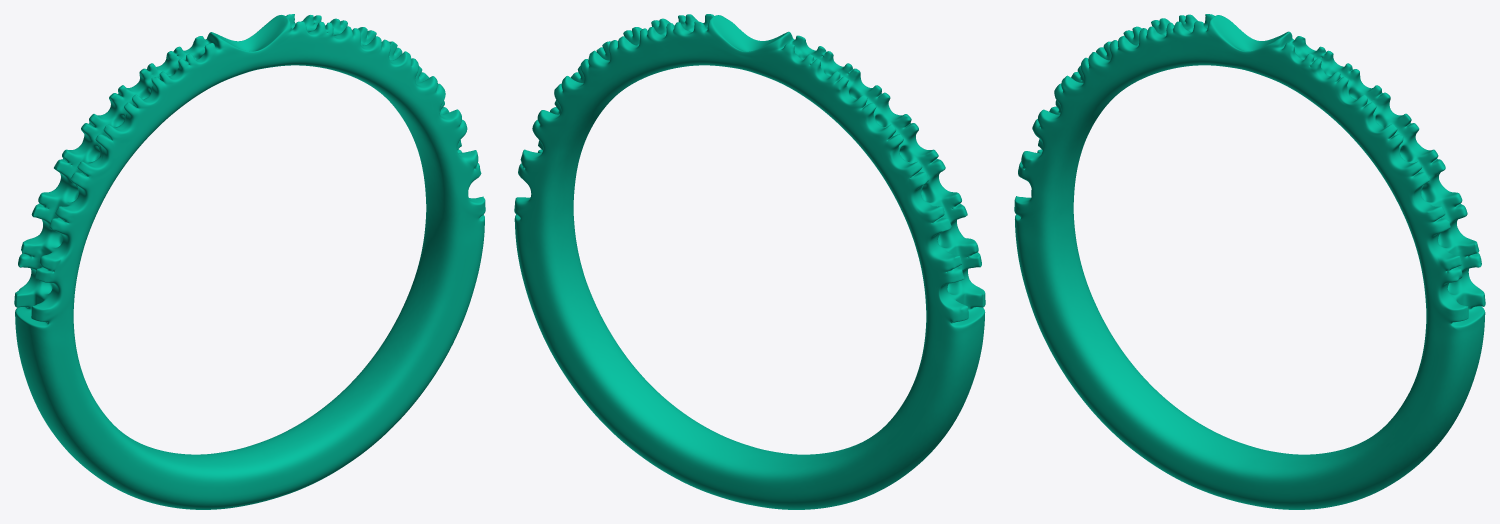
File: Shank_Pinch_U Prong_B_Single Halo_Band.glb
3 views of the same model, side by side, from view 1: azimuth 30°, elevation 25°; view 2: azimuth 150°, elevation 25°; view 3: azimuth 330°, elevation 25° (orthographic).
Bounding box in the file's own units: 0.0213 × 0.0212 × 0.00246.
